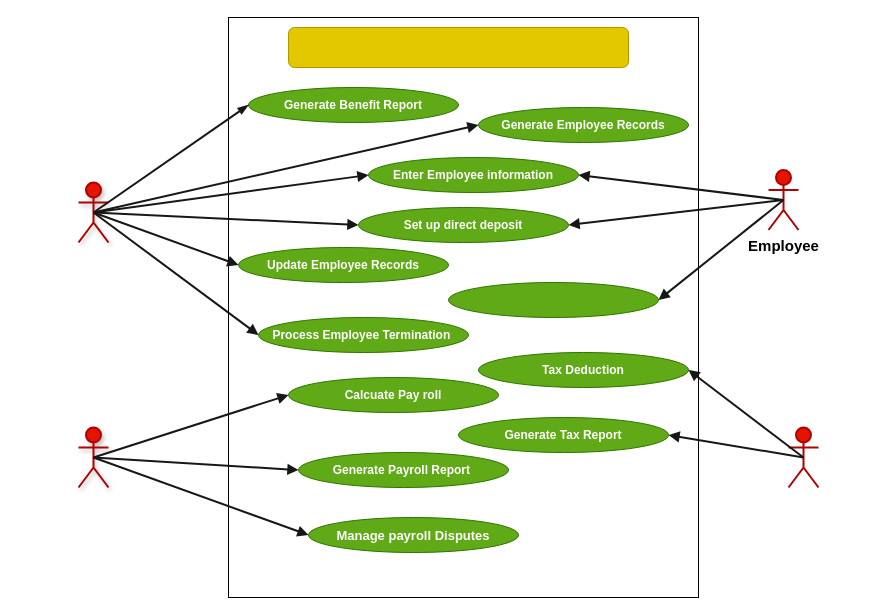
Image size: 880x615. Some labels were removed from this diagram. The shapes that lost their labels are listed below. From the top down, each one's centre as x and y in pixels, then its label:
At point 458,47: "PAYROLL MANAGEMENT SYSTEM".
At point 94,213: "HR Department".
At point 553,300: "Time sheet Data".
At point 94,458: "Payroll Administrator".
At point 803,457: "TAX AUTHORITY".
